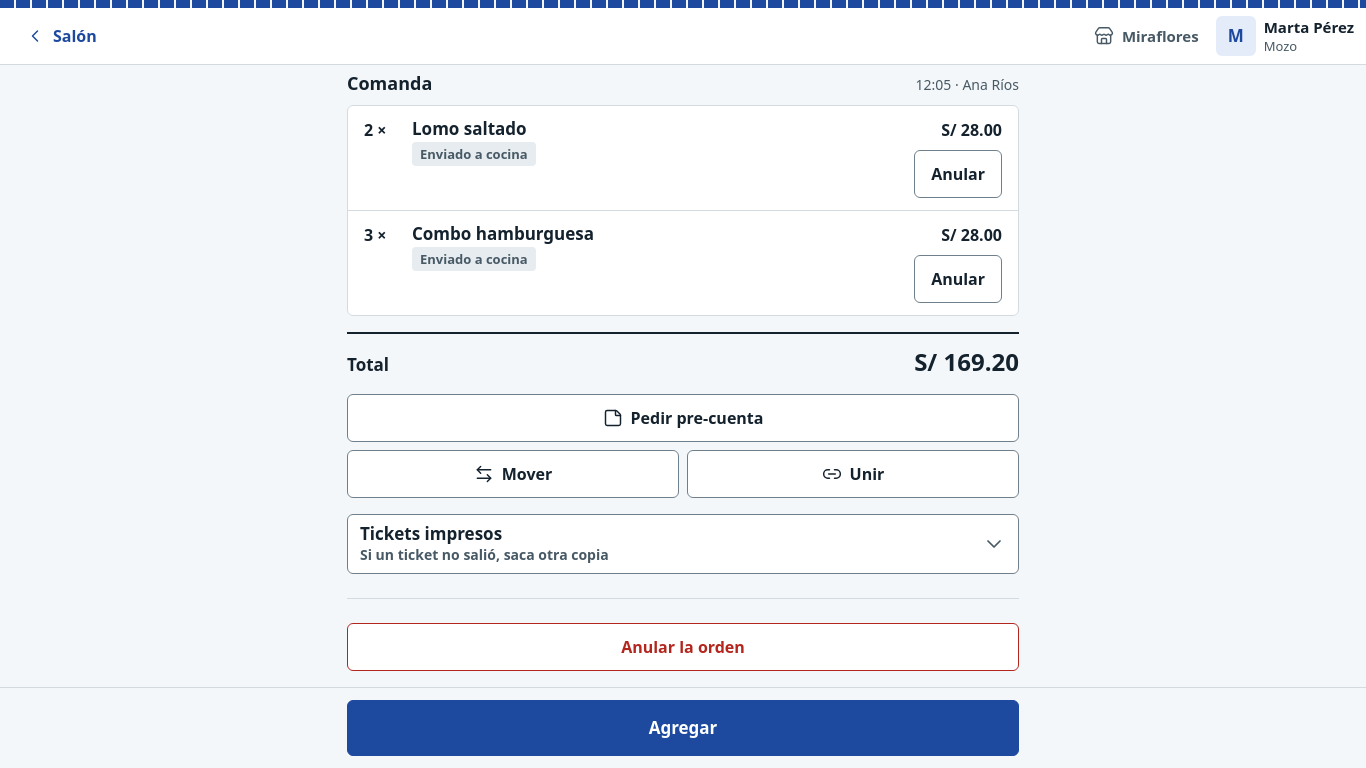
Pedir la pre-cuenta (criterios 50 y 95) › con un producto con ICBPER, la nota de la API agrega «El ICBPER se suma al cobrar.»
(page scrolled)
Click the button "Pedir pre-cuenta". click: (683, 418)
box: [347,394,1019,442]
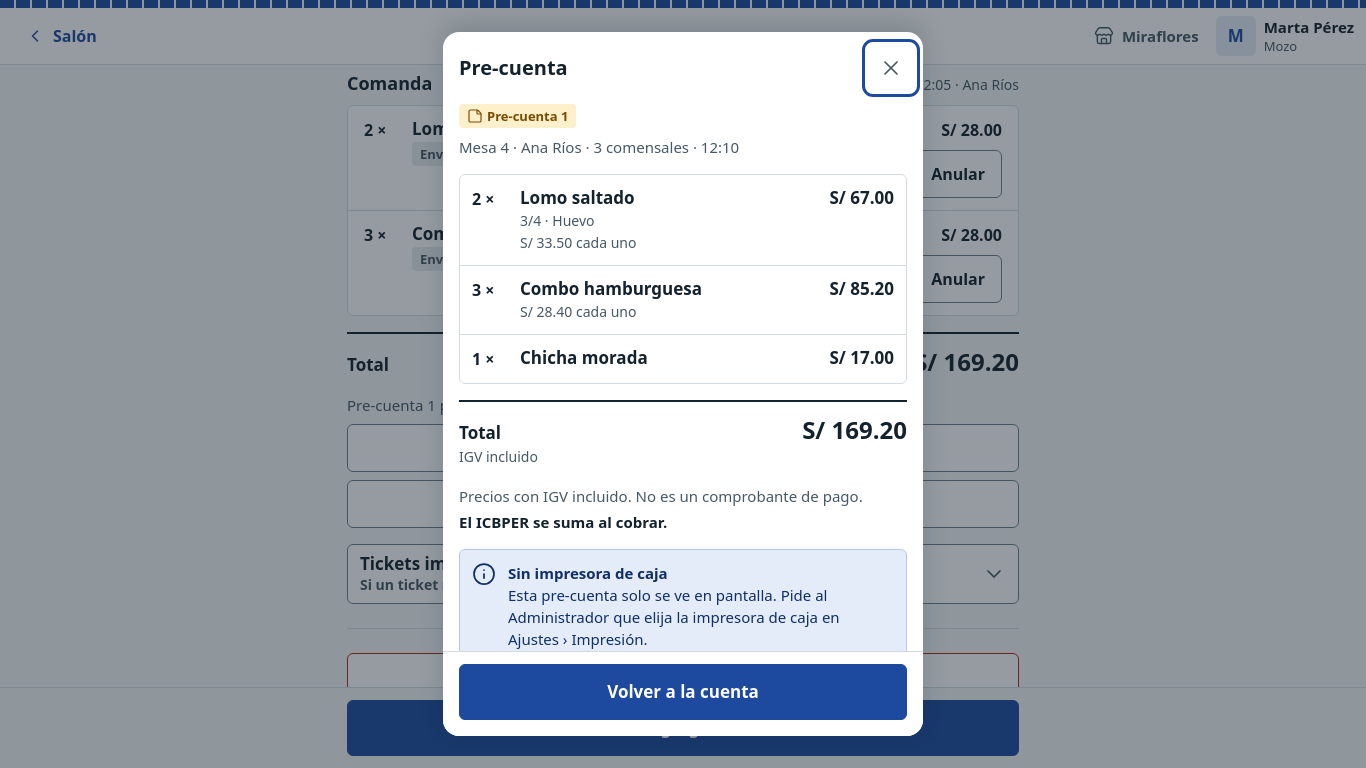
Result: the text "El ICBPER se suma al cobrar." is shown at [459,512,667,532]
Result: the text "Precios con IGV incluido. No es un comprobante de pago." is shown at [459,485,907,507]
